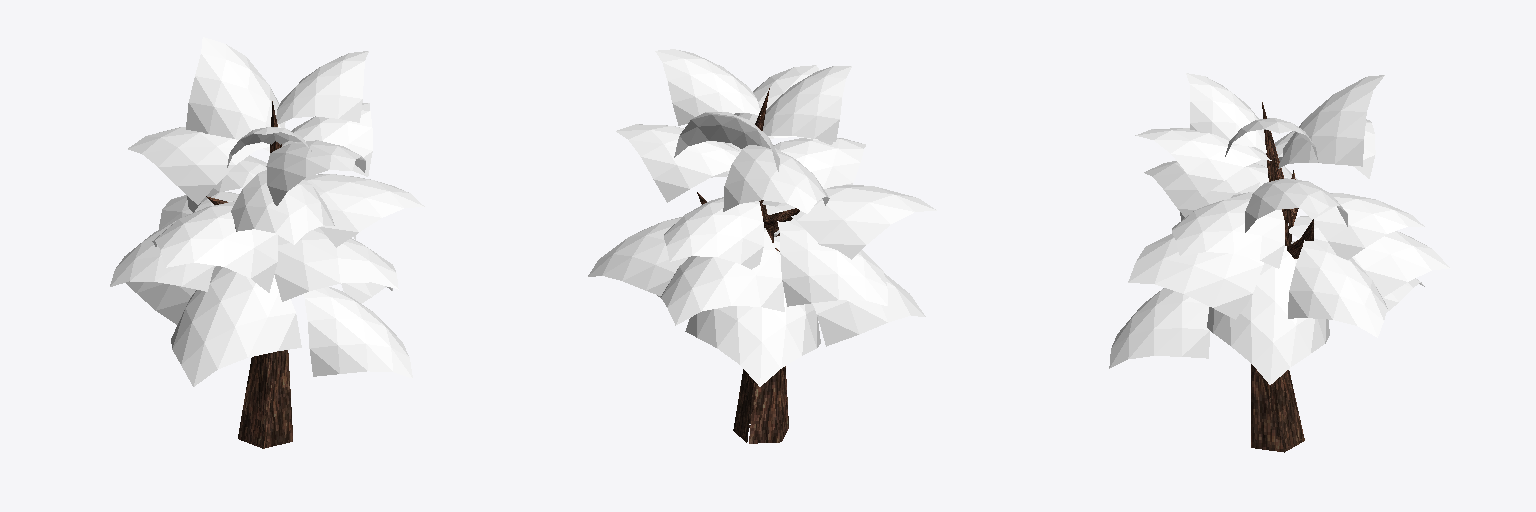
The picture shows the model from 3 angles: view 1: azimuth 30°, elevation 25°; view 2: azimuth 150°, elevation 25°; view 3: azimuth 270°, elevation 25°; orthographic projection.
Parts seen in each view (by area): view 1: CombinedPolyh001, CombinedPolyh000; view 2: CombinedPolyh001, CombinedPolyh000; view 3: CombinedPolyh001, CombinedPolyh000.
Part boxes in pixels (x1,y1,x2,y2): CombinedPolyh001: (110, 37, 424, 386); CombinedPolyh000: (206, 101, 292, 448); CombinedPolyh001: (588, 49, 936, 386); CombinedPolyh000: (697, 88, 799, 443); CombinedPolyh001: (1109, 73, 1450, 384); CombinedPolyh000: (1251, 102, 1313, 452).
Size of the model in its own units: 8.38 by 10.85 by 9.29.
Materials: 2 (1 with a texture image).